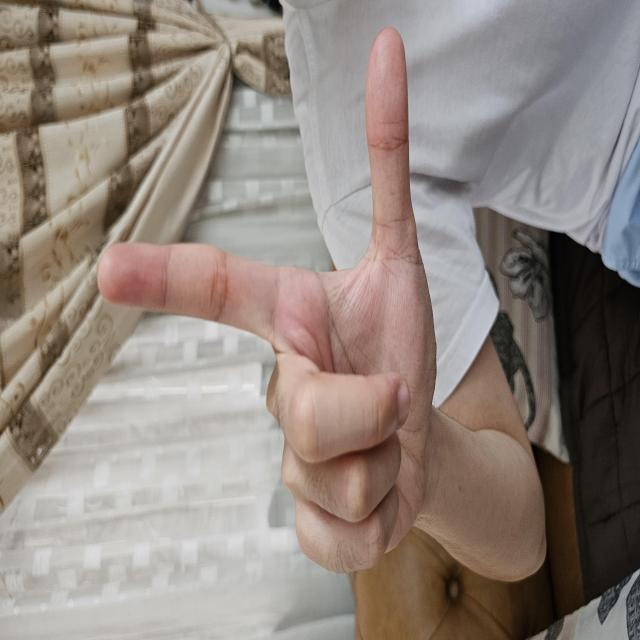L: (64, 96, 615, 438)
